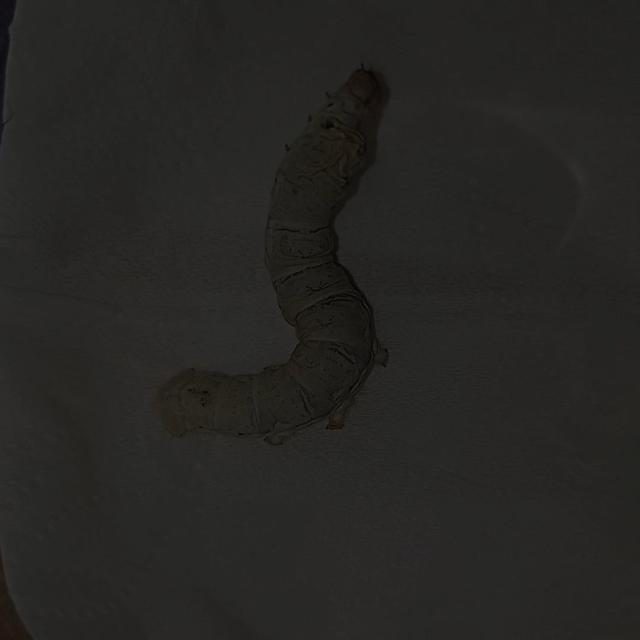Healthy: (144, 61, 426, 464)
